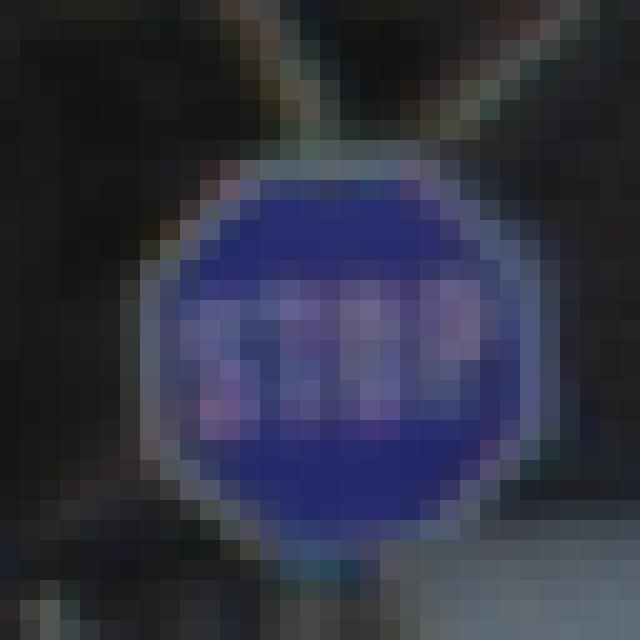STOP: (177, 181, 530, 540)
